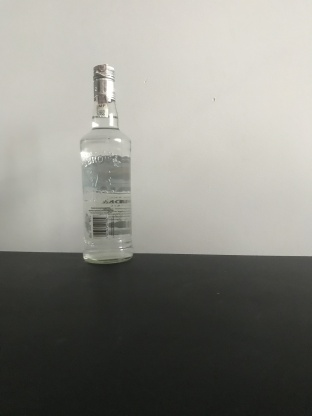nakretka: (91, 61, 117, 102)
